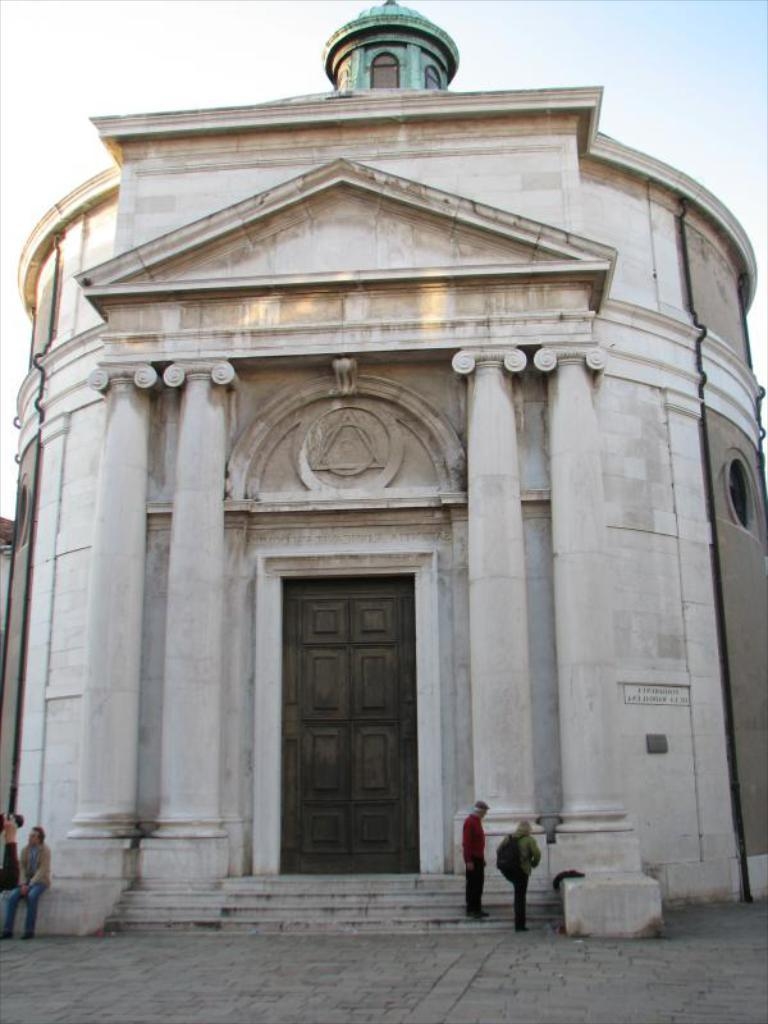door: (292, 603, 350, 858), (354, 600, 406, 855)
